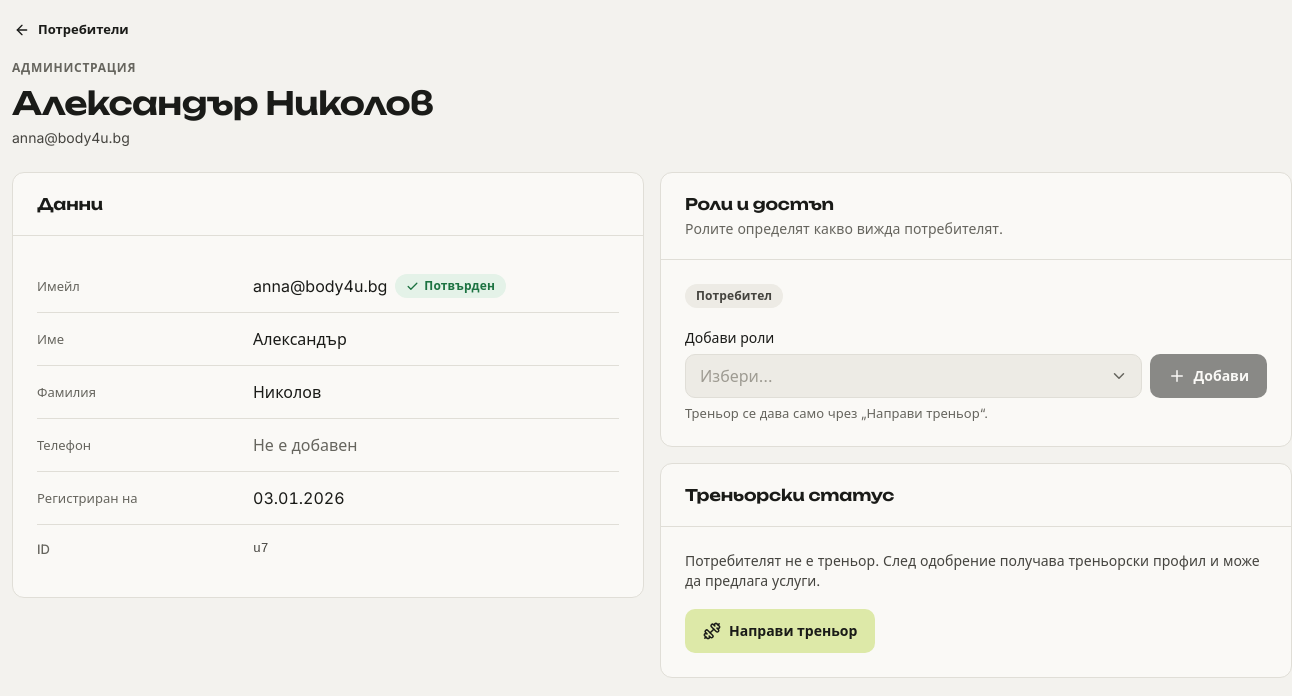
Test: UserDetailsPage › warns when the user is already a trainer (409)
The image size is (1292, 696).
Click the button "Направи треньор". click: (780, 631)
box: [685,609,875,653]
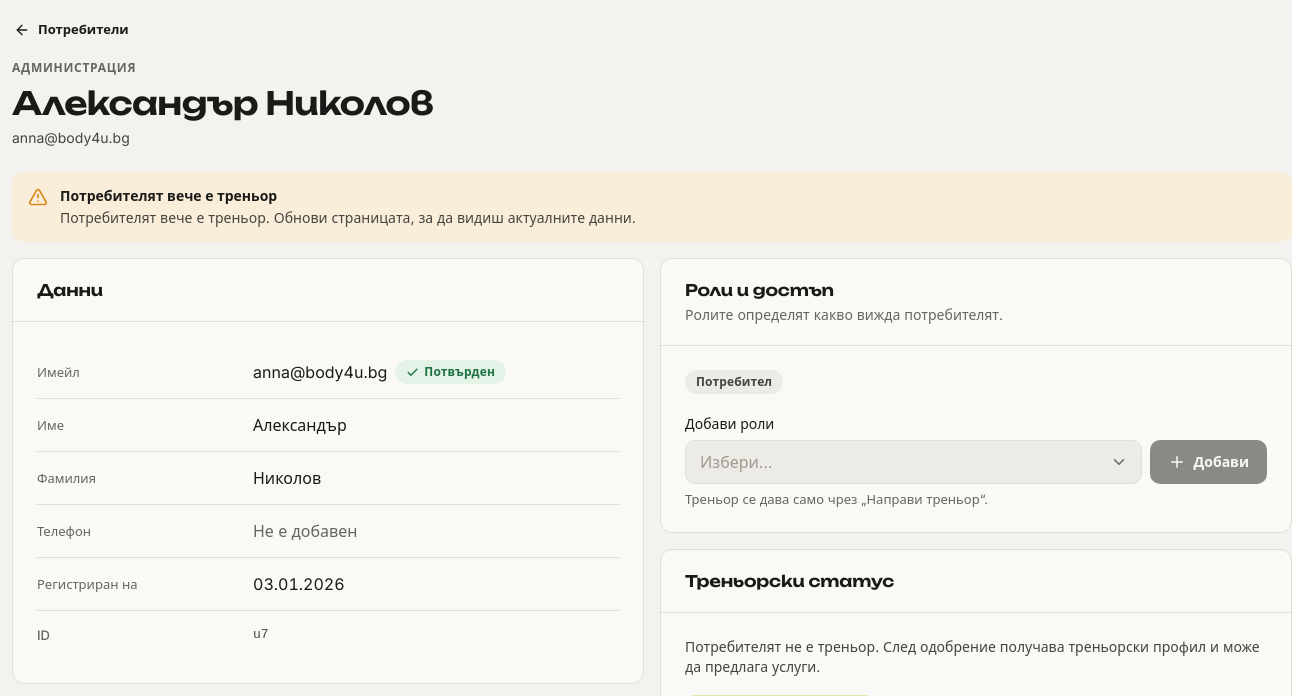
Check: the text "Потребителят вече е треньор. Обнови страницата, за да видиш актуалните данни." is shown, box [60,209,636,226]
